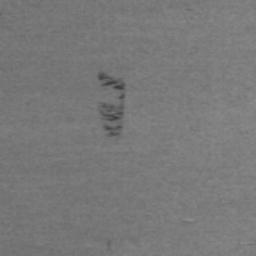Secondary rust skin: (100, 102, 124, 121), (99, 72, 125, 89), (104, 125, 122, 137)
